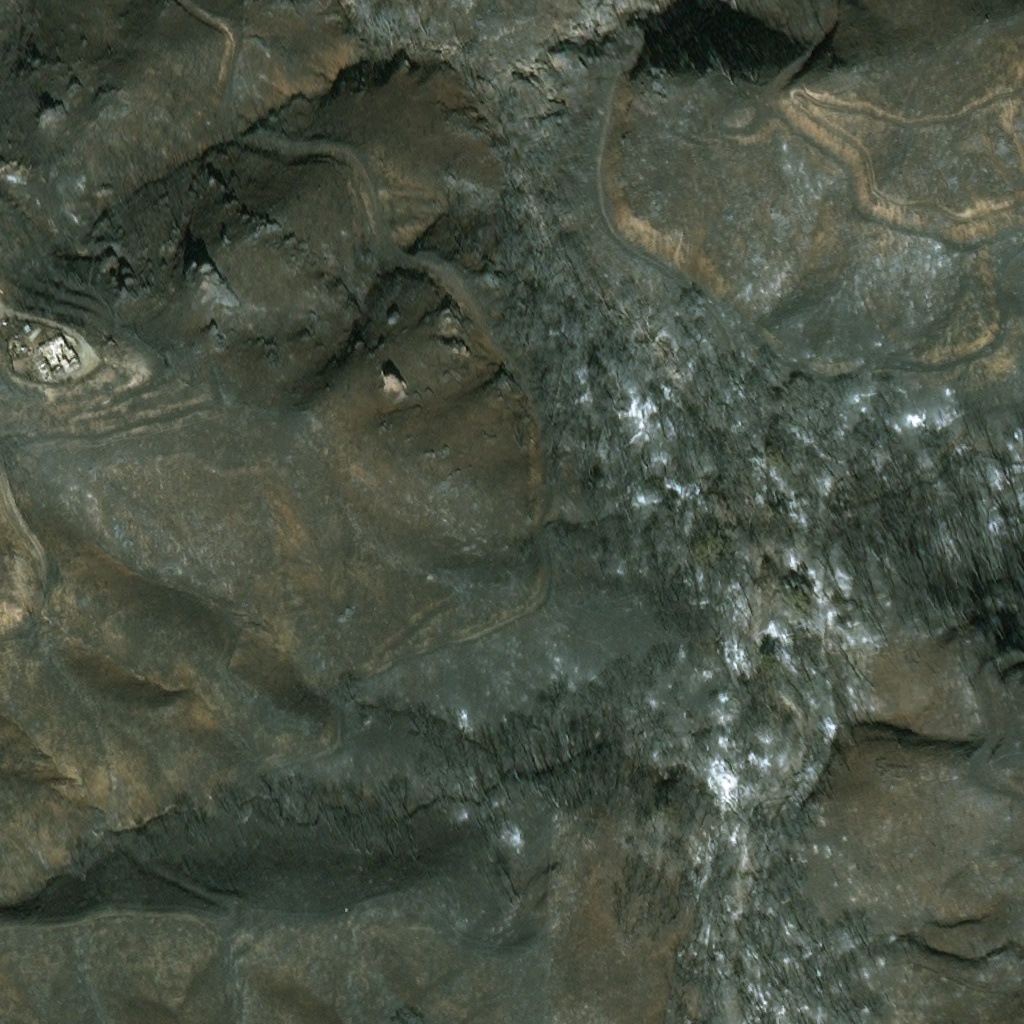3 destroyed: (33, 334, 81, 381), (1, 154, 29, 172), (5, 334, 19, 348), (24, 343, 31, 352)
